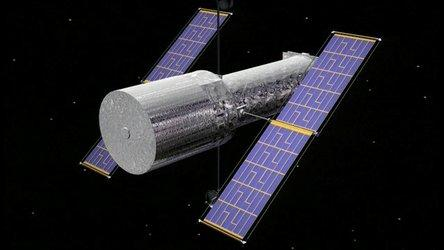body: (97, 49, 322, 177)
solar: (195, 28, 384, 247), (77, 5, 238, 181)
